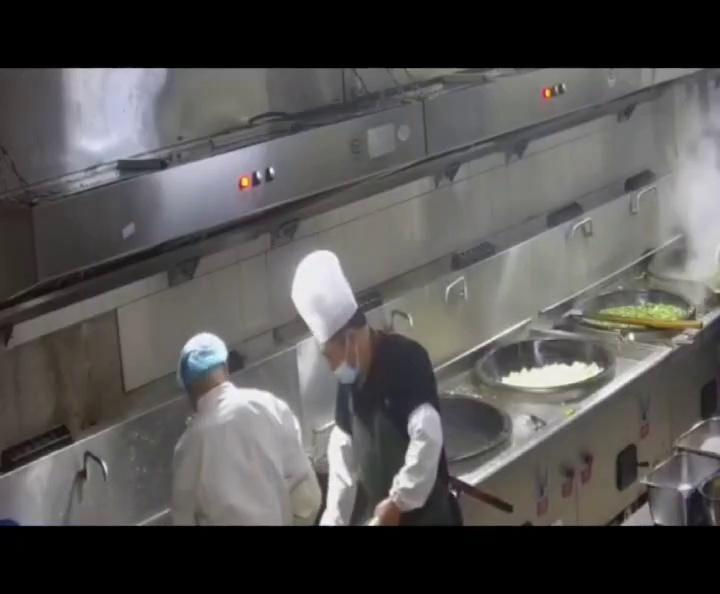mask: (326, 342, 362, 386)
